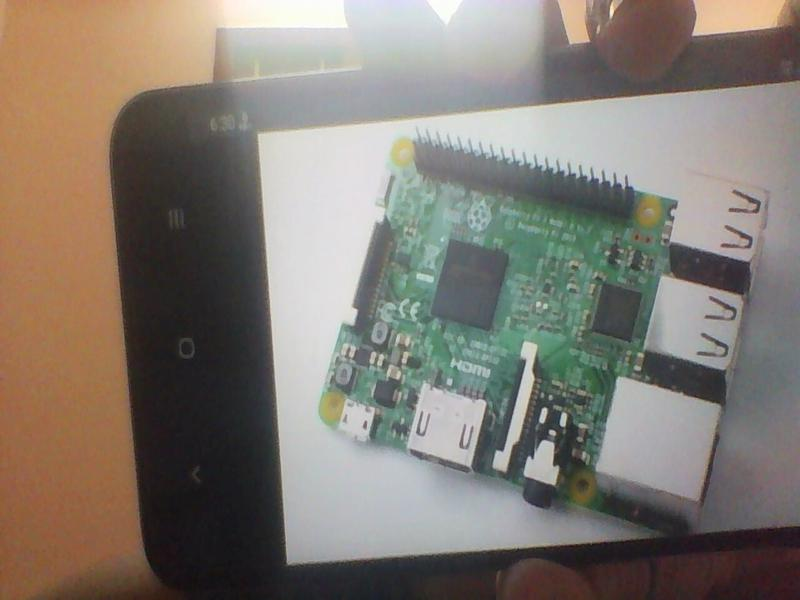aud: (523, 405, 574, 505)
eth: (599, 372, 721, 510)
usb: (649, 273, 747, 373), (675, 170, 769, 268)
